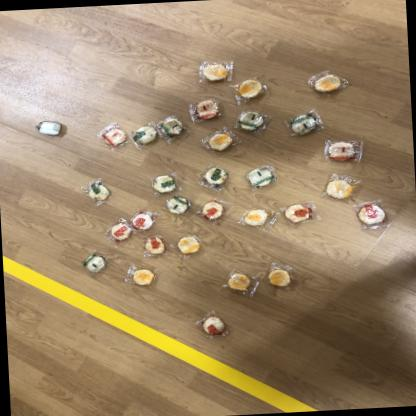green_setoshio: (79, 178, 113, 207), (244, 164, 278, 192), (284, 113, 320, 139), (232, 109, 268, 135), (195, 165, 229, 190), (146, 172, 178, 196), (79, 251, 109, 276), (128, 124, 158, 148), (156, 114, 186, 138), (162, 196, 188, 218)
red_setoshio: (318, 136, 362, 166), (277, 198, 318, 226), (351, 200, 388, 230), (196, 196, 231, 225), (94, 122, 126, 152), (192, 313, 228, 338), (102, 216, 134, 243), (190, 98, 222, 124), (124, 210, 157, 233), (142, 231, 170, 256)
yellow_setoshio: (306, 67, 346, 98), (319, 172, 360, 202), (262, 260, 296, 292), (236, 204, 272, 234), (220, 269, 256, 298), (122, 260, 159, 288), (232, 75, 269, 102), (198, 128, 234, 155), (197, 58, 234, 84), (174, 232, 204, 259)
